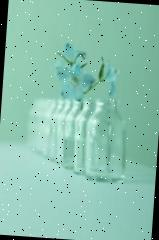glass: (84, 98, 131, 186)
